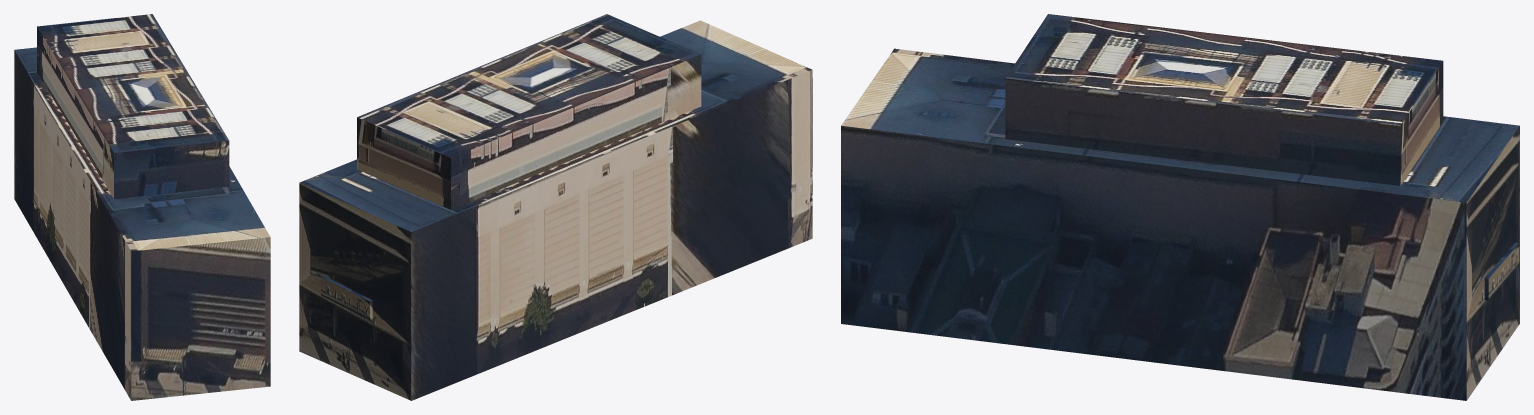
File: Ripley.fbx
3 renders of one model, left to right at view 1: azimuth 30°, elevation 25°; view 2: azimuth 150°, elevation 25°; view 3: azimuth 270°, elevation 25°, orthographic. The views are drawn at different scales.
Visible parts, largest first — view 1: skp9C1A1; view 2: skp9C1A1; view 3: skp9C1A1.
Boxes of the visible parts, bbox=[...] form: skp9C1A1: bbox=[14, 14, 270, 400]; skp9C1A1: bbox=[299, 14, 812, 400]; skp9C1A1: bbox=[841, 14, 1519, 400].
Bounding box in the file's own units: 45.66 × 35.78 × 84.95.
